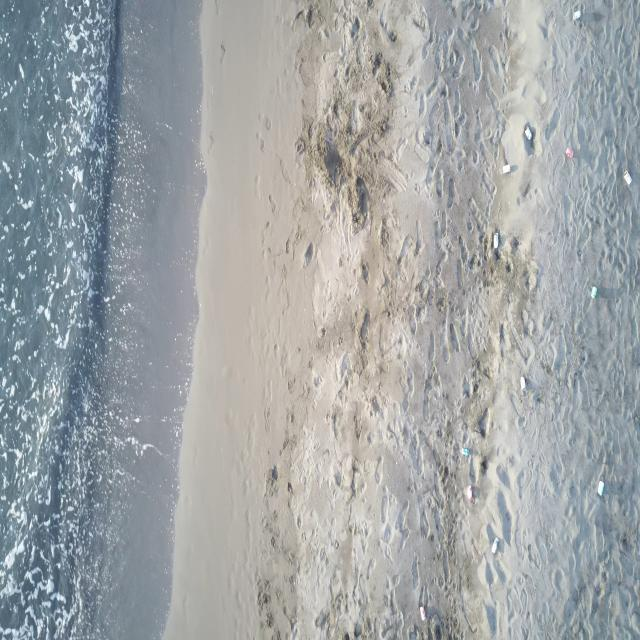tin-and-aluminum-cans: (624, 169, 633, 187), (597, 479, 605, 499), (501, 163, 512, 177), (466, 484, 474, 503), (492, 231, 500, 250), (491, 536, 499, 554), (524, 126, 533, 141), (419, 606, 427, 620), (572, 8, 581, 20), (566, 146, 574, 159), (520, 375, 526, 392), (591, 285, 597, 299), (462, 447, 469, 458)
